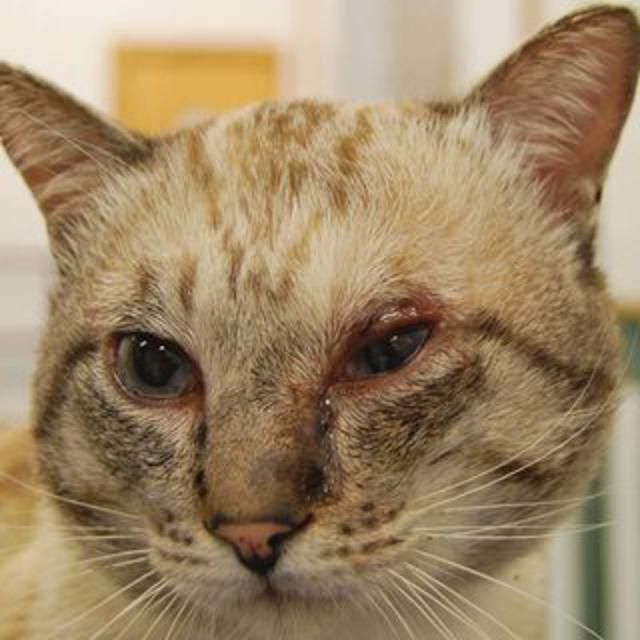eye_infection: (101, 320, 209, 410), (330, 308, 441, 392)
